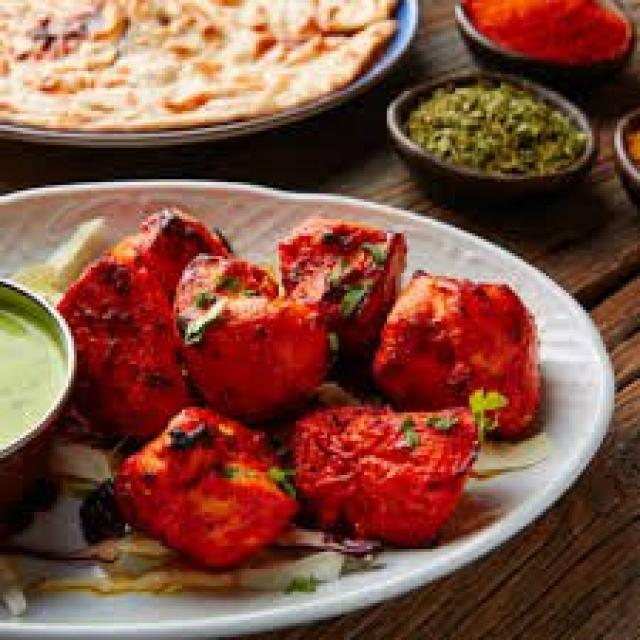Chicken Tikka: (54, 201, 548, 570)
